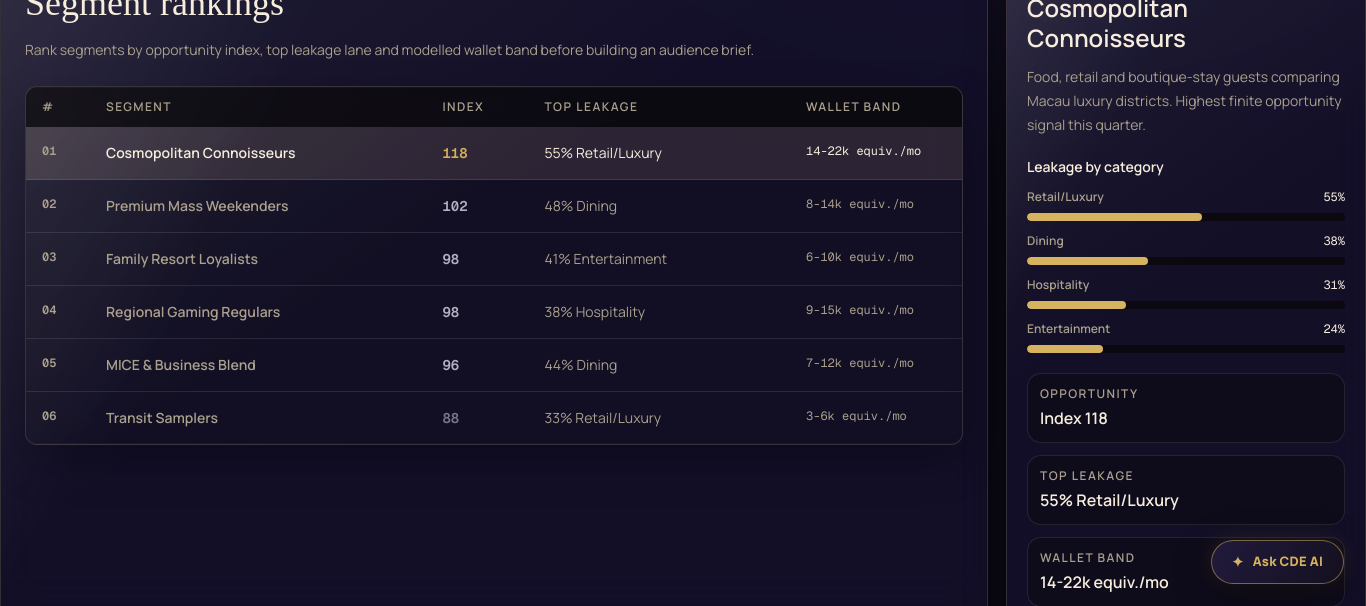
Test: ConstellationRedesignScreen › builds a CDE-safe audience brief draft for the selected segment
The image size is (1366, 606).
Check: the message "Audience brief draft" is not shown
Step 1. Click the button named "Select Premium Mass Weekenders" → click(197, 206), box x1=26 y1=180 x2=962 y2=233
(page scrolled)
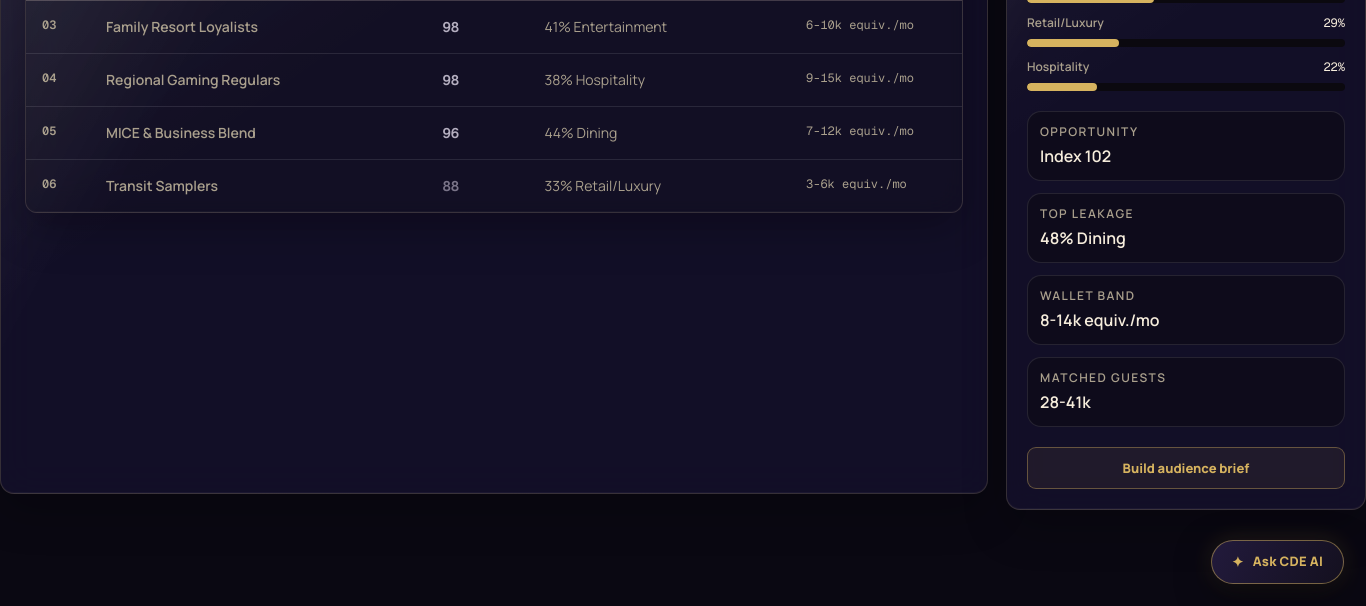
Step 2. Click the button "Build audience brief" → click(1186, 468), box x1=1027 y1=447 x2=1345 y2=489
(page scrolled)
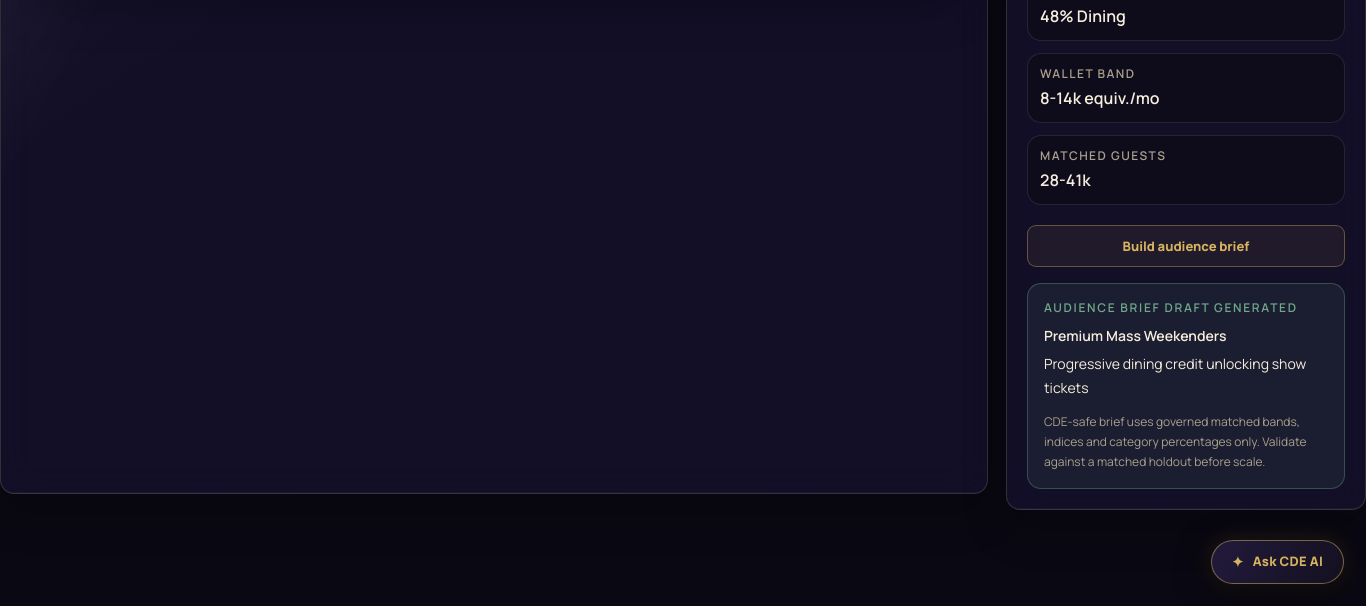
Check: the text "Audience brief draft generated" is shown, box x1=1044 y1=300 x2=1328 y2=316
Check: the text "Premium Mass Weekenders" is shown, box x1=1044 y1=326 x2=1226 y2=345
Check: the text "Progressive dining credit unlocking show tickets" is shown, box x1=1044 y1=352 x2=1328 y2=400
